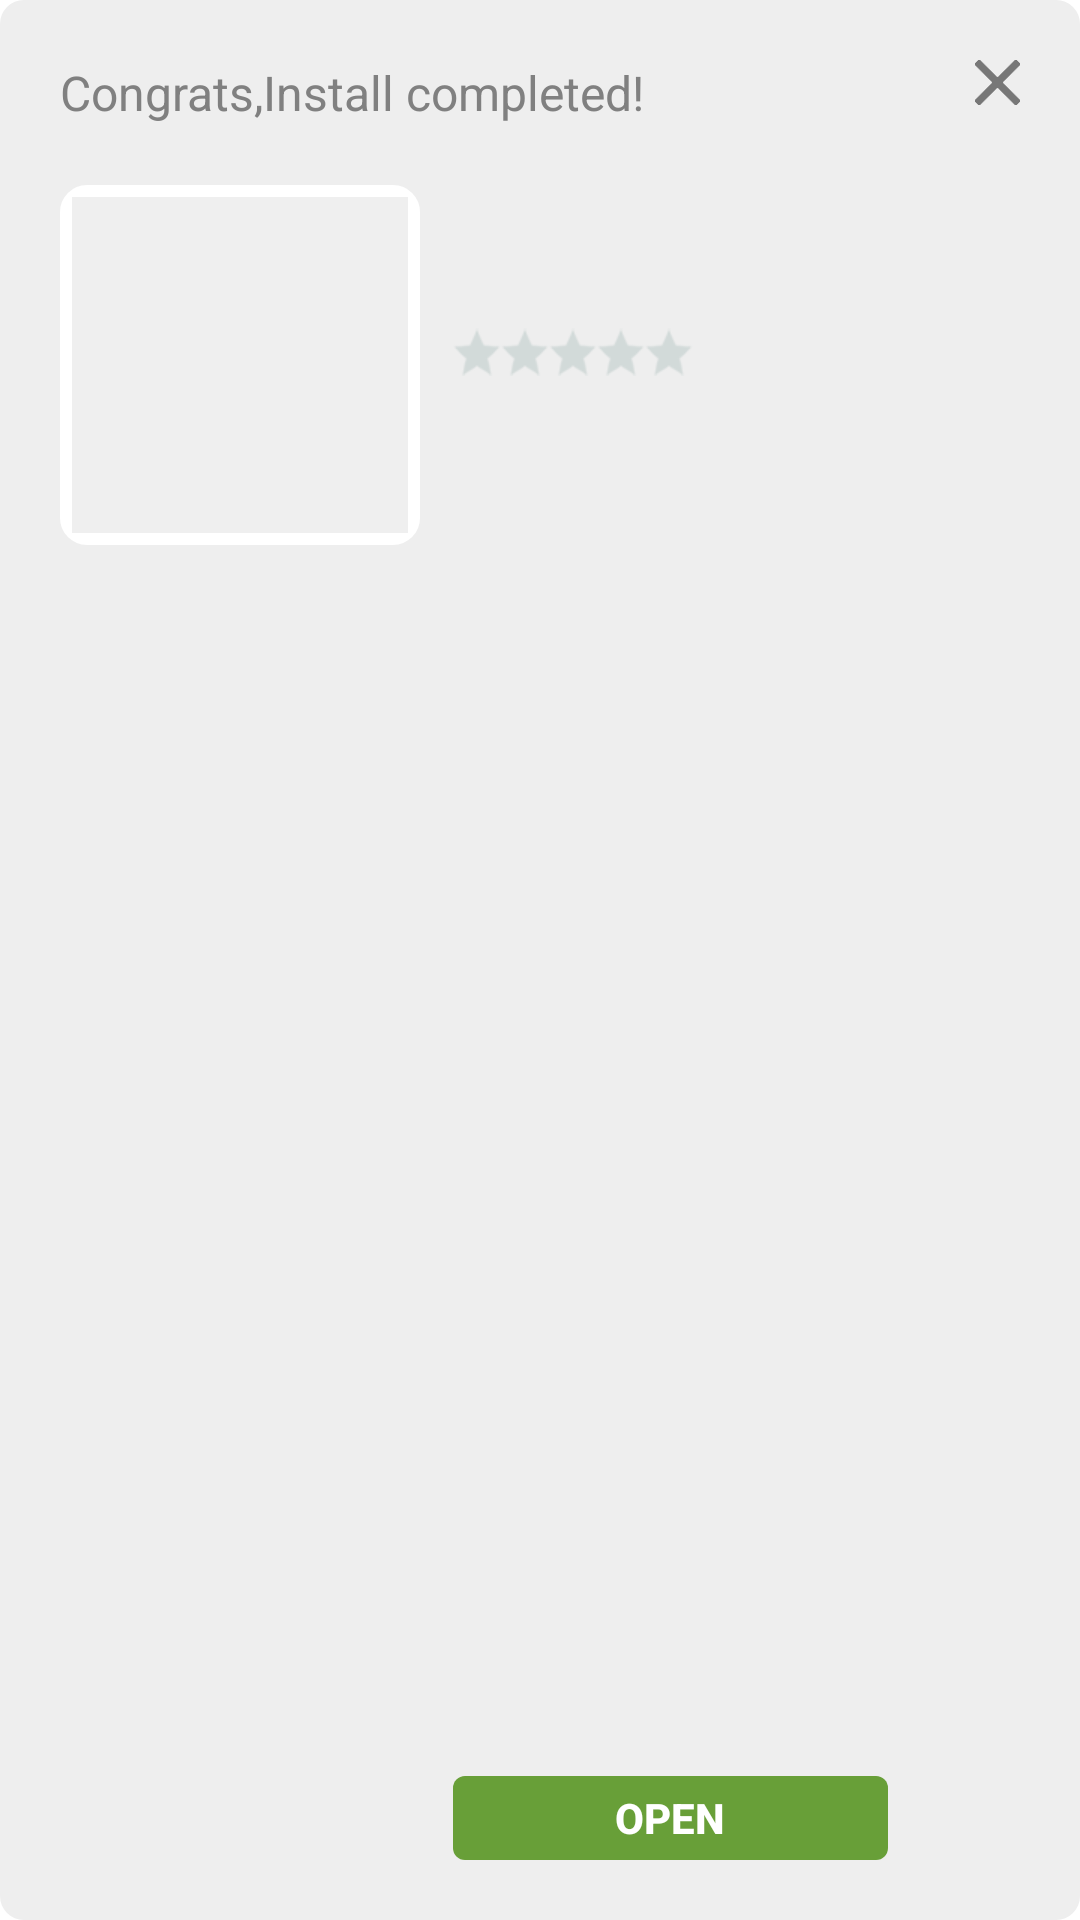

Icons on this 1080px×1920px Android screen, each with the point to tap as (x=x, y=y):
close: (x=997, y=82)
